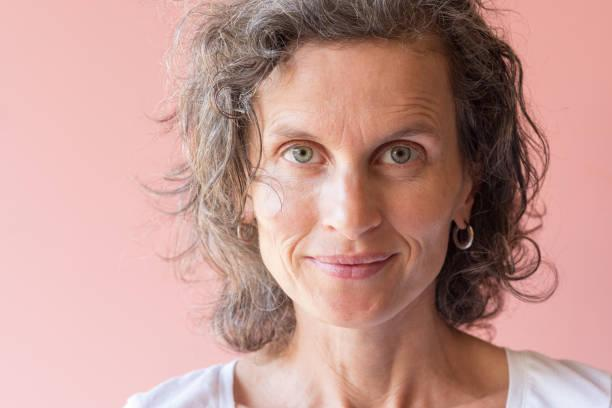Dry-Skin: (384, 177, 462, 282), (353, 48, 459, 122)
